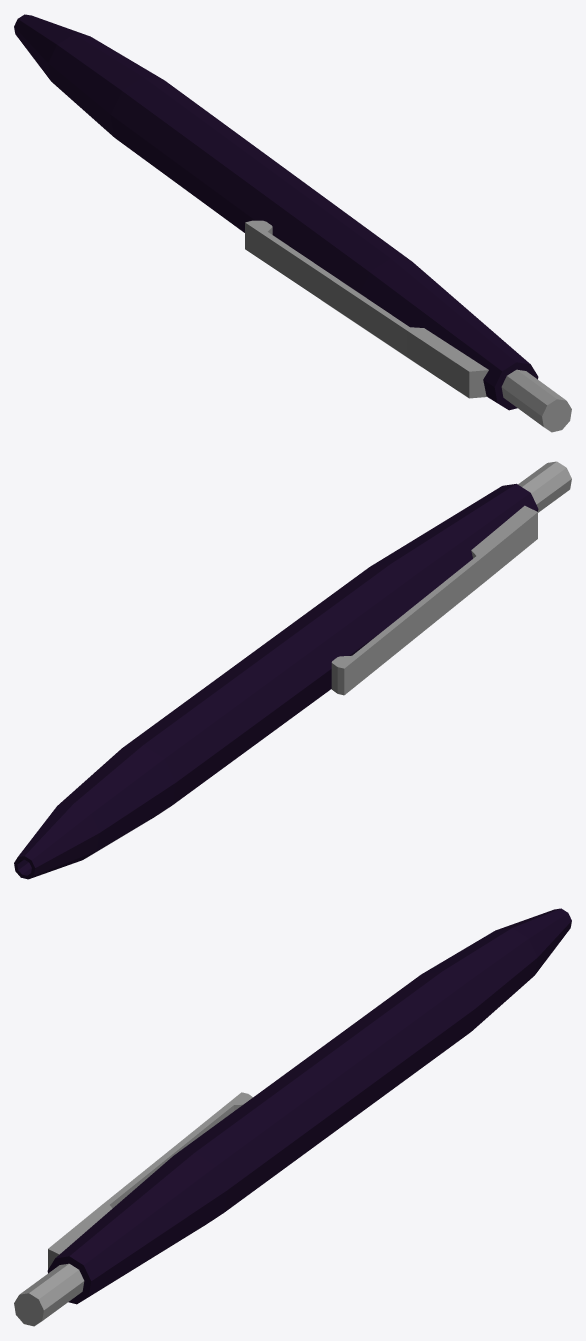
File: blackballpointpen_modelingfbx.fbx
3 renders of one model, top to bottom at view 1: azimuth 30°, elevation 25°; view 2: azimuth 150°, elevation 25°; view 3: azimuth 330°, elevation 25°, orthographic.
Visible parts, largest first — view 1: blackballpointpen_modelingfbx; view 2: blackballpointpen_modelingfbx; view 3: blackballpointpen_modelingfbx.
Part boxes in pixels (bbox=[...]): blackballpointpen_modelingfbx: bbox=[14, 14, 571, 432]; blackballpointpen_modelingfbx: bbox=[14, 461, 571, 879]; blackballpointpen_modelingfbx: bbox=[14, 908, 571, 1326].
Size of the model in its own units: 191 by 153 by 2135.
